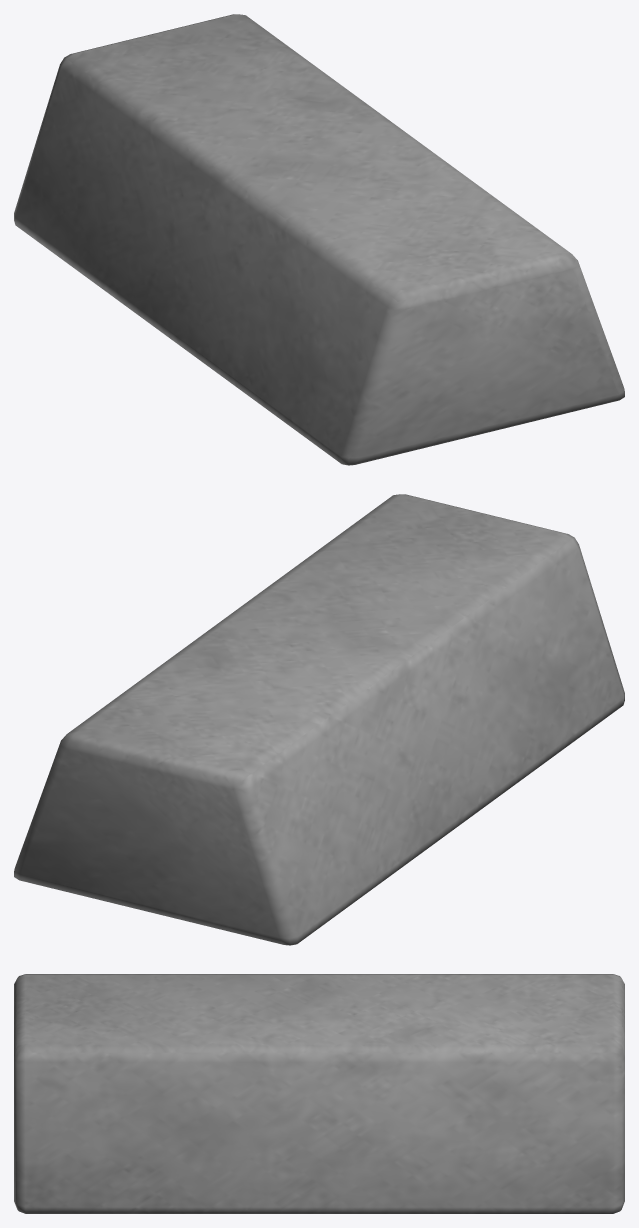
File: iron_ingot.glb
3 renders of one model, top to bottom at view 1: azimuth 30°, elevation 25°; view 2: azimuth 150°, elevation 25°; view 3: azimuth 270°, elevation 25°, orthographic. The views are drawn at different scales.
Visible parts, largest first — view 1: Silver; view 2: Silver; view 3: Silver.
Part boxes in pixels (x1=…): Silver: x1=14, y1=14, x2=624, y2=465; Silver: x1=14, y1=494, x2=624, y2=945; Silver: x1=14, y1=974, x2=624, y2=1213.
Size of the model in its own units: 0.7635 by 0.4129 by 1.59.
Materials: 1 (1 with a texture image).
